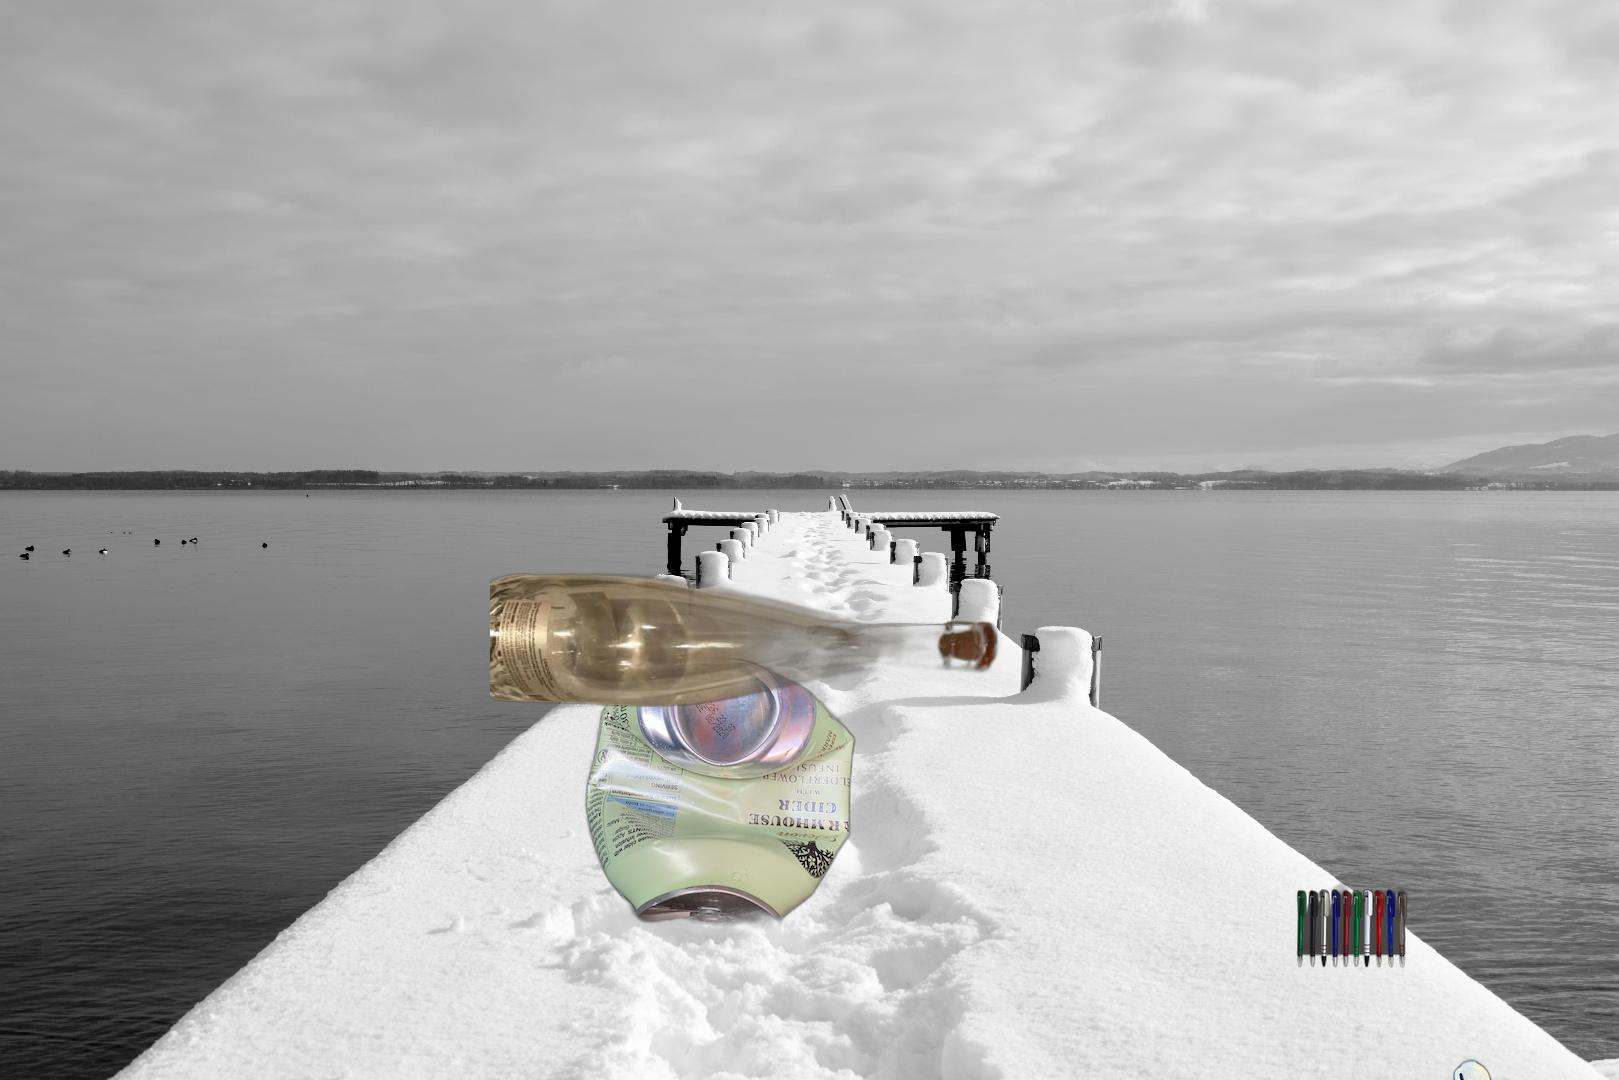glass: (489, 571, 1002, 709)
metal-cans: (581, 652, 860, 932)
penholder: (1286, 838, 1412, 970)
plastic-bottles: (1450, 1055, 1508, 1080)
